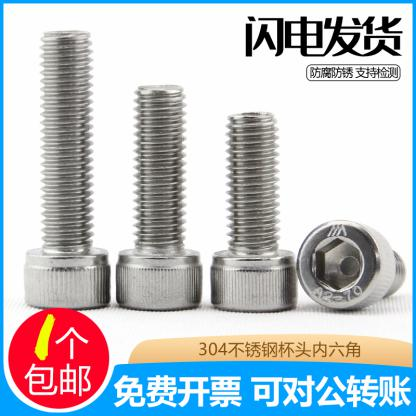FOD: (22, 29, 110, 311), (113, 83, 205, 312), (208, 108, 298, 315), (296, 219, 407, 313)
